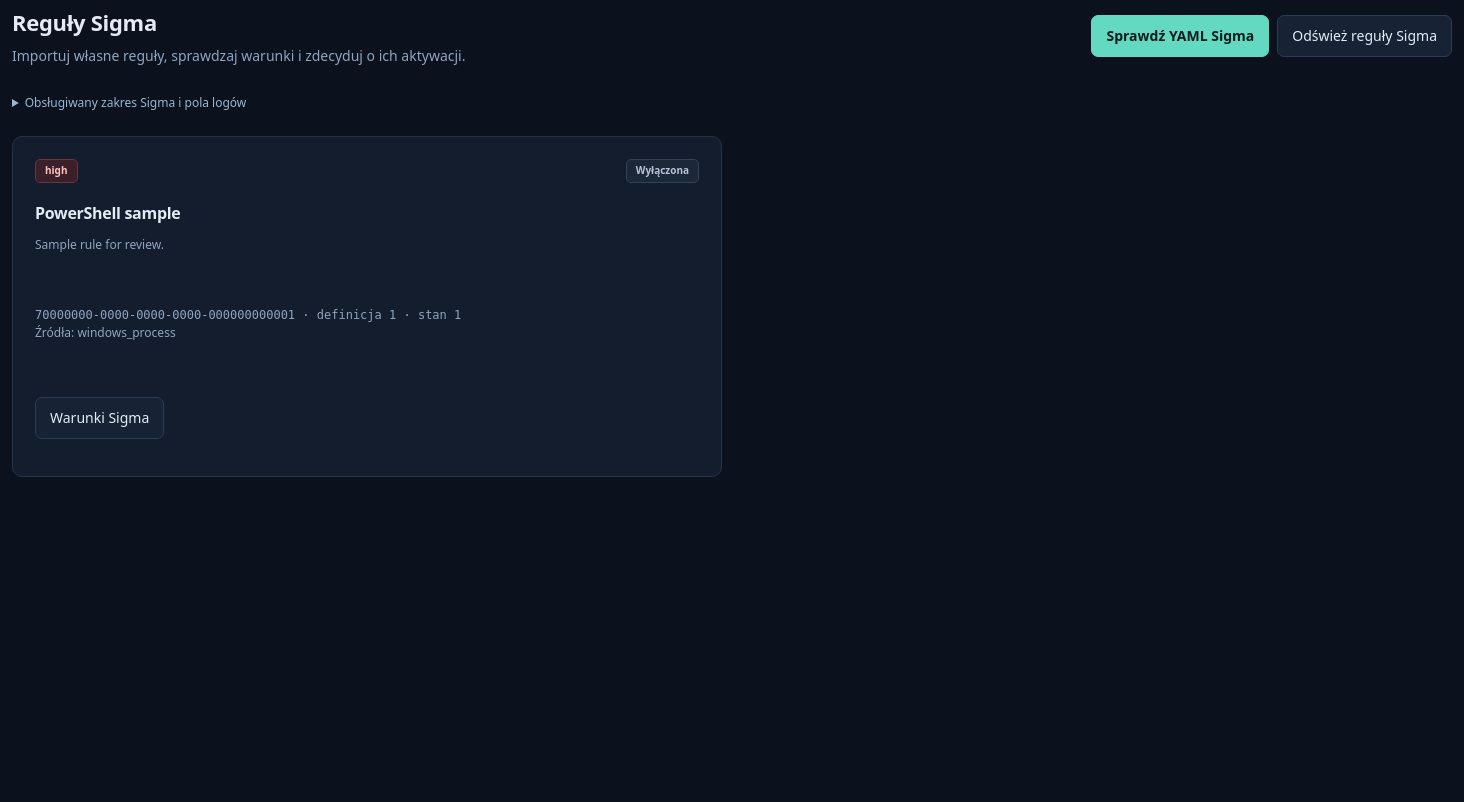
Test case: shows supported source aliases, operators and exact size limits from capabilities
What coordinates should you click on to do the following:
click the heading "Obsługiwany zakres Sigma i pola logów"
I would click on:
 (136, 102)
Its box is [25, 94, 246, 111].
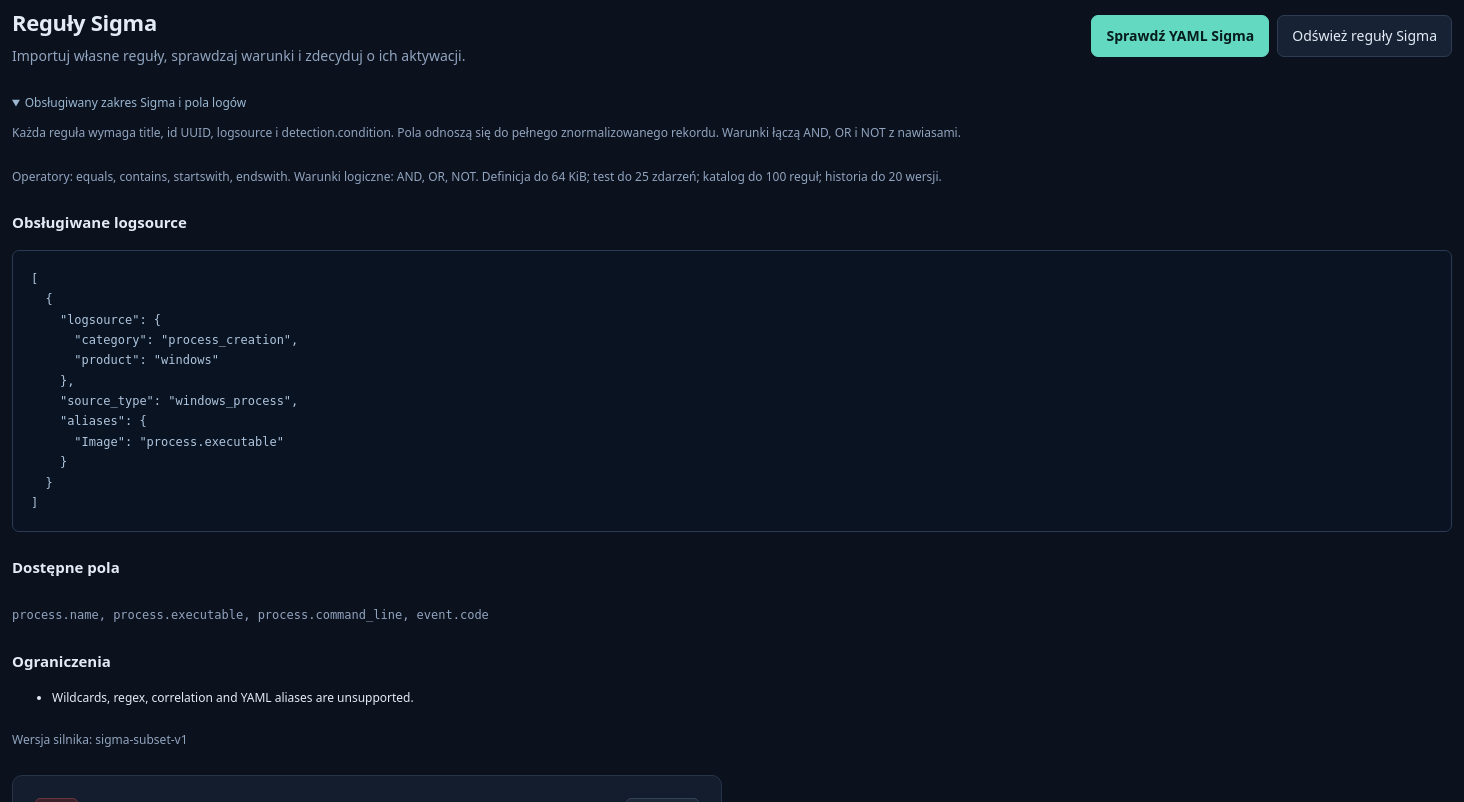
expect the text "katalog do 100 reguł; historia do 20 wersji" is shown: met, box [12, 168, 942, 185]
expect the text "equals, contains, startswith, endswith" is shown: met, box [76, 168, 288, 185]
expect the text "\"Image\": \"process.executable\"" is shown: met, box [31, 272, 298, 510]
